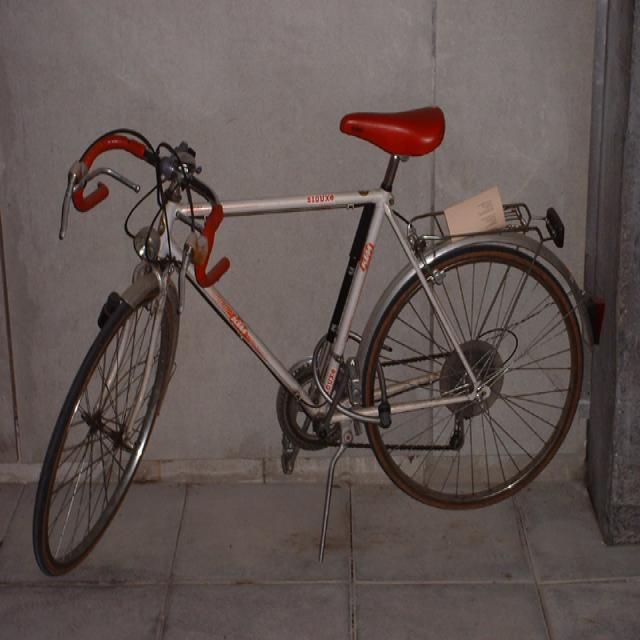bicycle: (31, 107, 591, 576)
